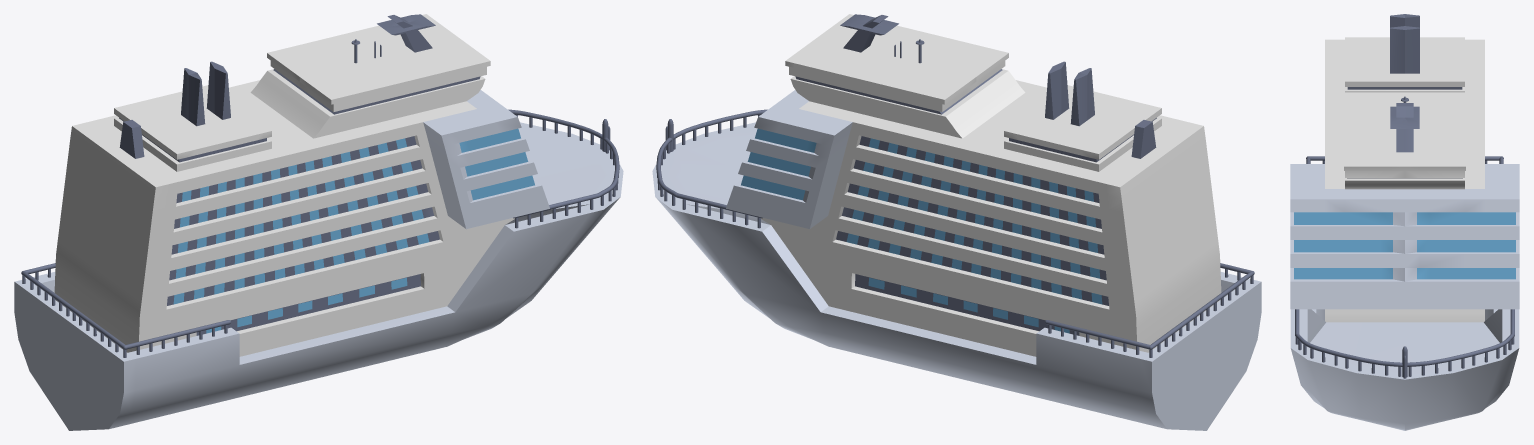
File: Ship.fbx
3 renders of one model, left to right at view 1: azimuth 30°, elevation 25°; view 2: azimuth 150°, elevation 25°; view 3: azimuth 270°, elevation 25°, orthographic. The views are drawn at different scales.
Visible parts, largest first — view 1: Cube.001; view 2: Cube.001; view 3: Cube.001.
Boxes of the visible parts, box(x1,y1,x2,y2) form: Cube.001: box(14, 14, 623, 430); Cube.001: box(652, 14, 1261, 430); Cube.001: box(1290, 14, 1519, 430).
Size of the model in its own units: 2168 by 1269 by 834.
